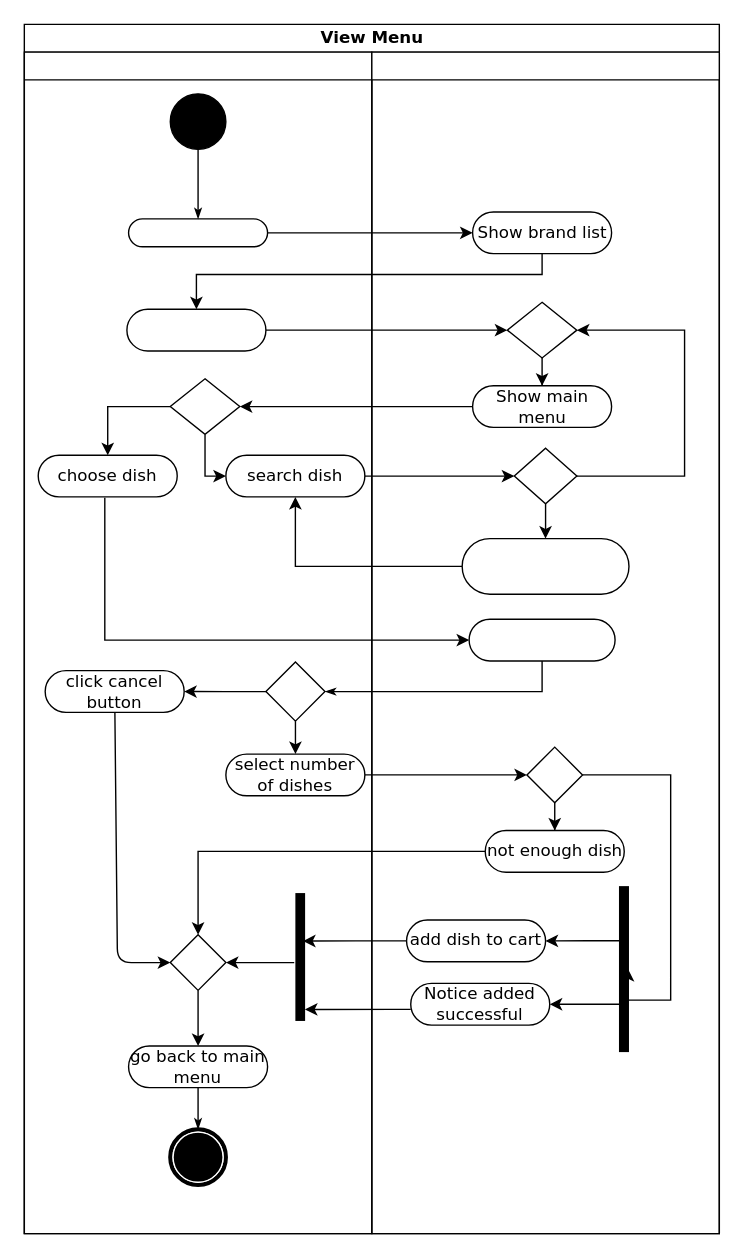
This 744x1258 diagram has some shape labels left out. Each missing label, with the box of its shape:
choose brand: (126, 308, 266, 351)
login: (127, 218, 268, 247)
Manager: (23, 51, 372, 1234)
POS: (370, 51, 719, 1234)
show dish detail: (468, 618, 615, 661)
show no result found: (461, 537, 629, 594)
